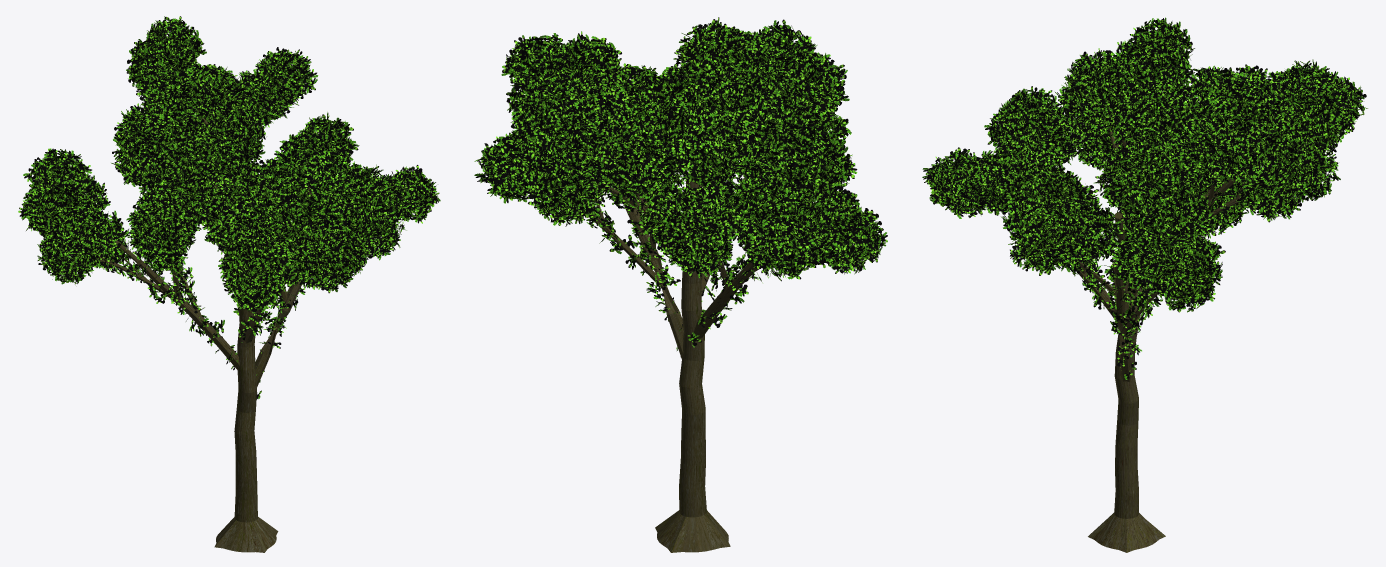
File: emergent_fig_v02.fbx
3 views of the same model, side by side, from view 1: azimuth 30°, elevation 25°; view 2: azimuth 150°, elevation 25°; view 3: azimuth 270°, elevation 25° (orthographic). The views are drawn at different scales.
Visible parts, largest first — view 1: emergent_fig_v02; view 2: emergent_fig_v02; view 3: emergent_fig_v02.
Boxes of the visible parts, box(x1,y1,x2,y2) form: emergent_fig_v02: box(18, 16, 440, 552); emergent_fig_v02: box(474, 17, 887, 552); emergent_fig_v02: box(922, 17, 1367, 552).
Bounding box in the file's own units: 3539 × 3804 × 4424.
Materials: 2 (2 with a texture image).
